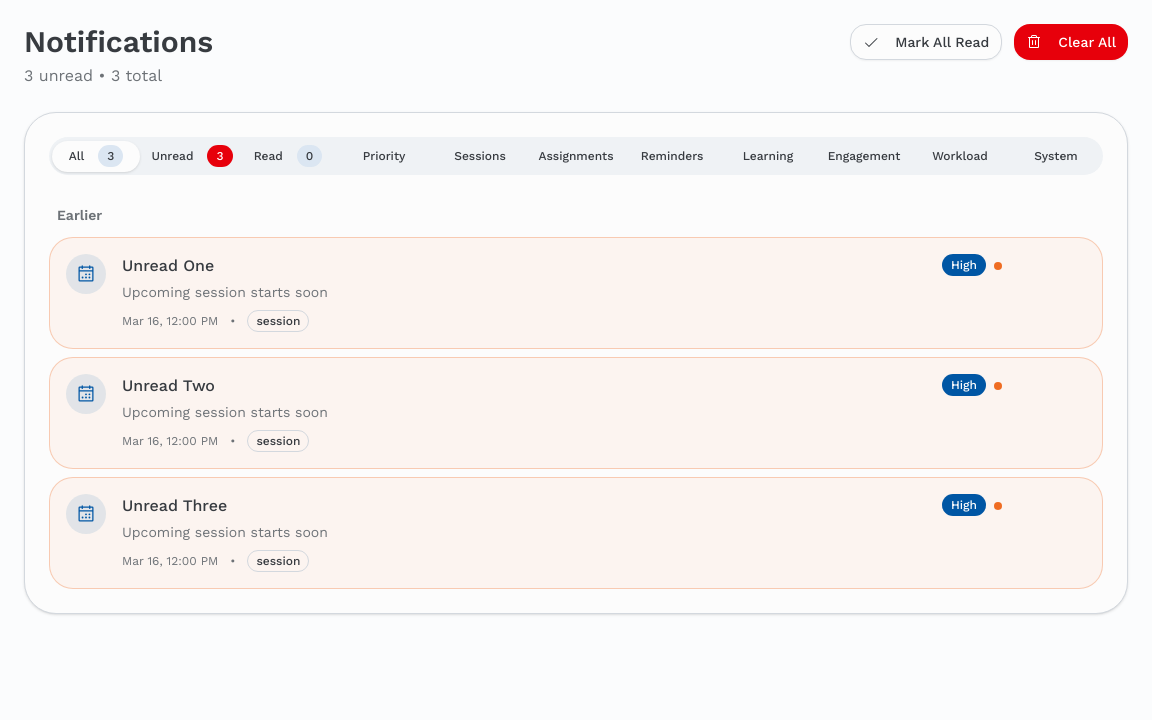
it: Notifications › handles all unread notifications
Expected: the text "3 unread • 3 total" is shown, [24,66,162,85]
Expected: the button "Mark All Read" is shown, [850,24,1002,60]
Click the tab "Read 0".
click(288, 156)  # box [244,140,332,172]
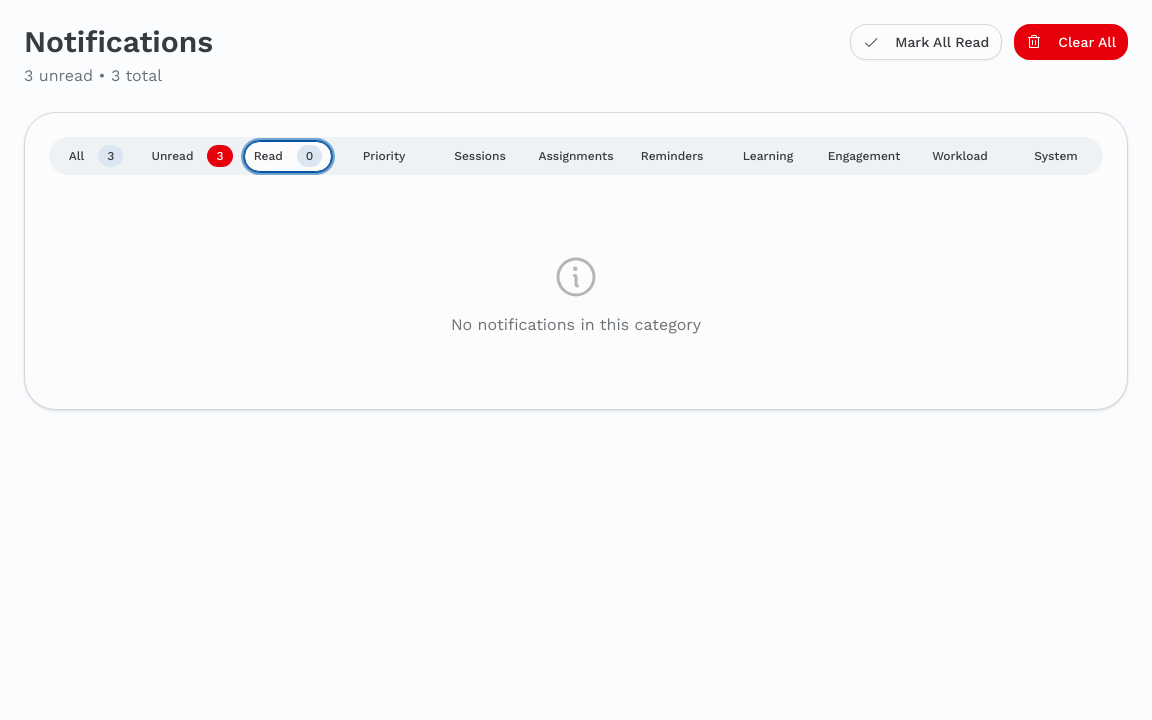
Result: the text "No notifications in this category" is shown at [451,315,701,334]
